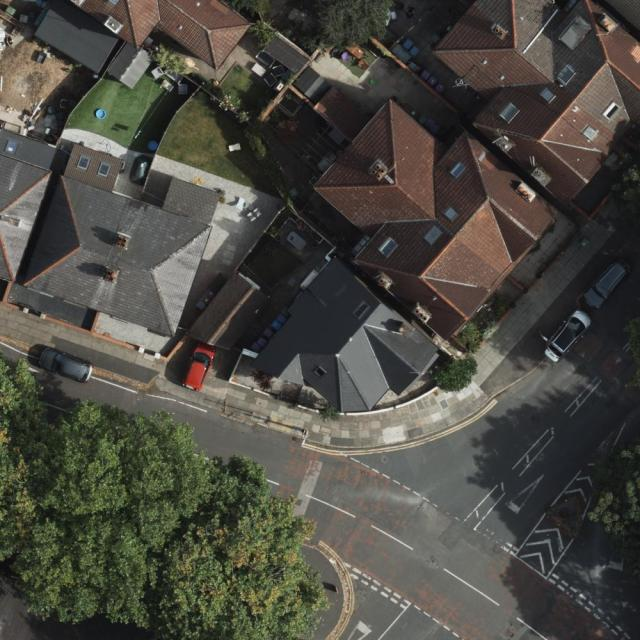roof: (312, 87, 561, 342), (0, 125, 216, 337), (433, 0, 640, 205), (250, 255, 441, 412), (36, 0, 250, 87), (185, 271, 272, 350), (607, 0, 640, 32)
skylight: (351, 299, 373, 324), (498, 101, 519, 123), (556, 64, 577, 86), (379, 236, 400, 257), (422, 225, 443, 245), (602, 102, 621, 123), (580, 125, 599, 143), (3, 138, 20, 157), (75, 154, 93, 171), (449, 161, 467, 177), (96, 161, 112, 178), (541, 86, 557, 103), (315, 364, 330, 380), (442, 206, 458, 221)
